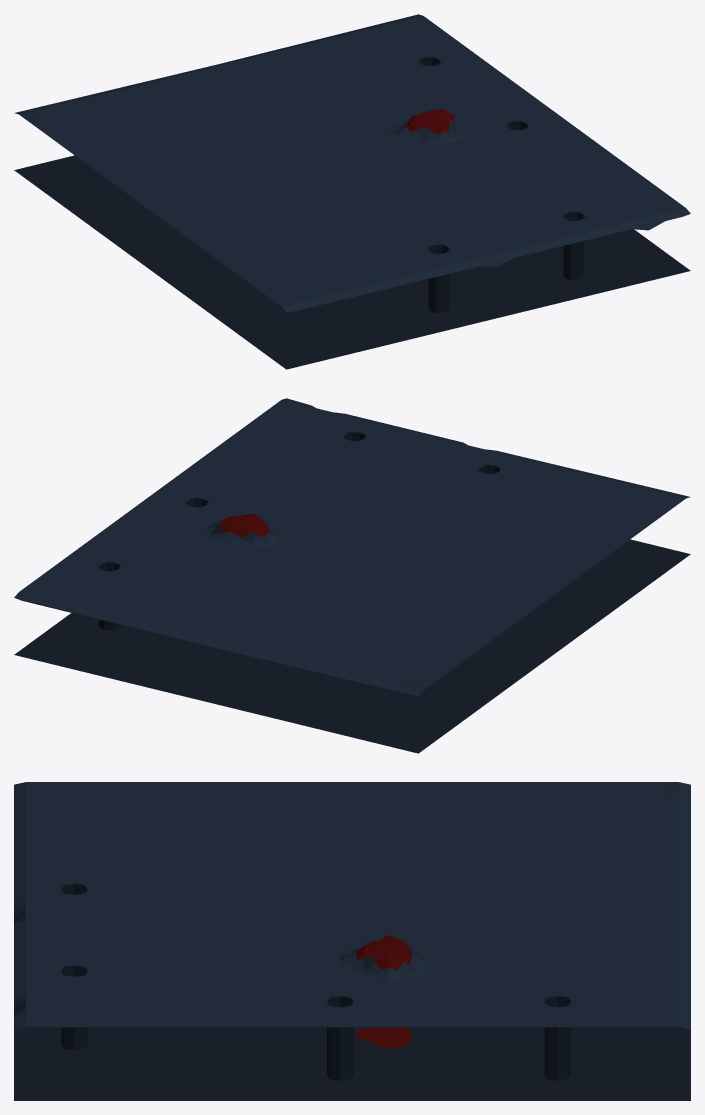
File: delbld-hull-580.glb
The picture shows the model from 3 angles, top to bottom: view 1: azimuth 30°, elevation 25°; view 2: azimuth 150°, elevation 25°; view 3: azimuth 270°, elevation 25°; orthographic projection. The views are drawn at different scales.
Visible parts, largest first — view 1: delbld-hull-580; view 2: delbld-hull-580; view 3: delbld-hull-580.
Boxes of the visible parts, x1,y1,x2,y2 form: delbld-hull-580: (14,14,690,369); delbld-hull-580: (14,398,690,753); delbld-hull-580: (14,782,690,1100).
Bounding box in the file's own units: 2 × 0.34 × 2.33.
3 materials, 2 textured.
